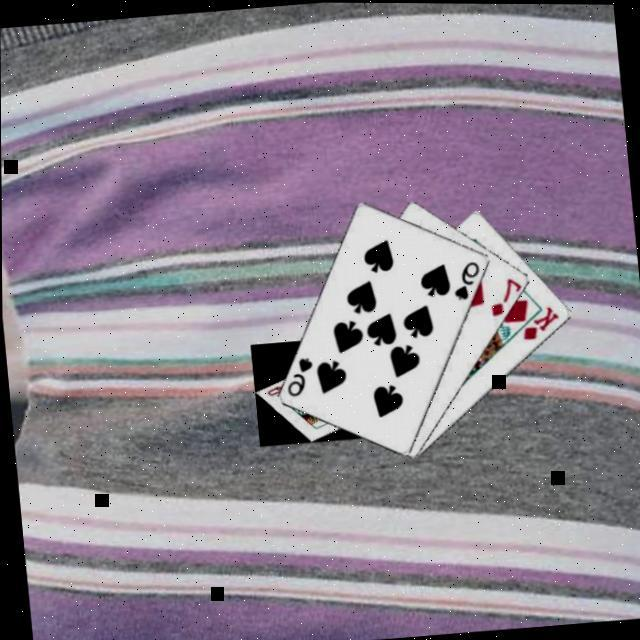7D: (482, 274, 522, 320)
9S: (278, 354, 314, 401), (447, 256, 482, 304)
KD: (515, 302, 561, 344)
